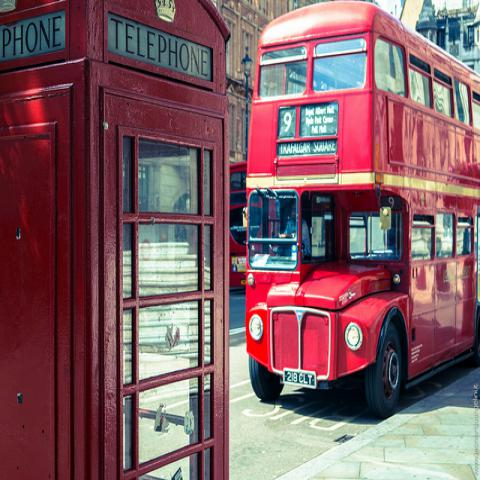bus: (245, 0, 480, 420), (228, 159, 247, 291)
